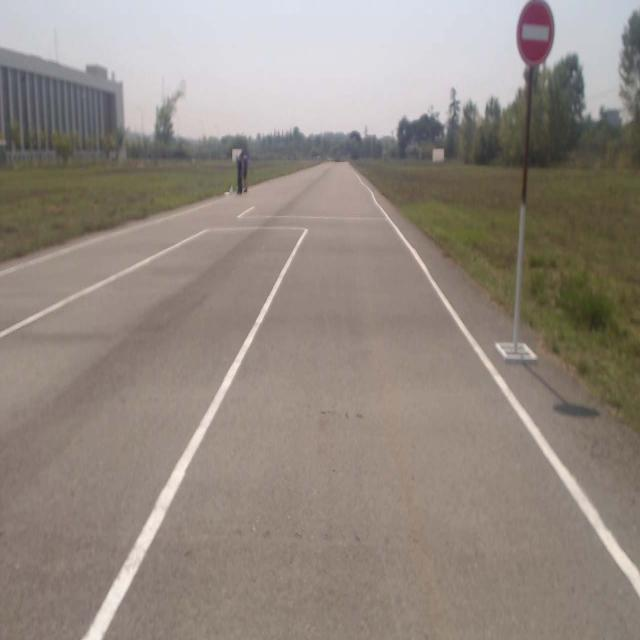girisyok: (518, 1, 554, 66)
